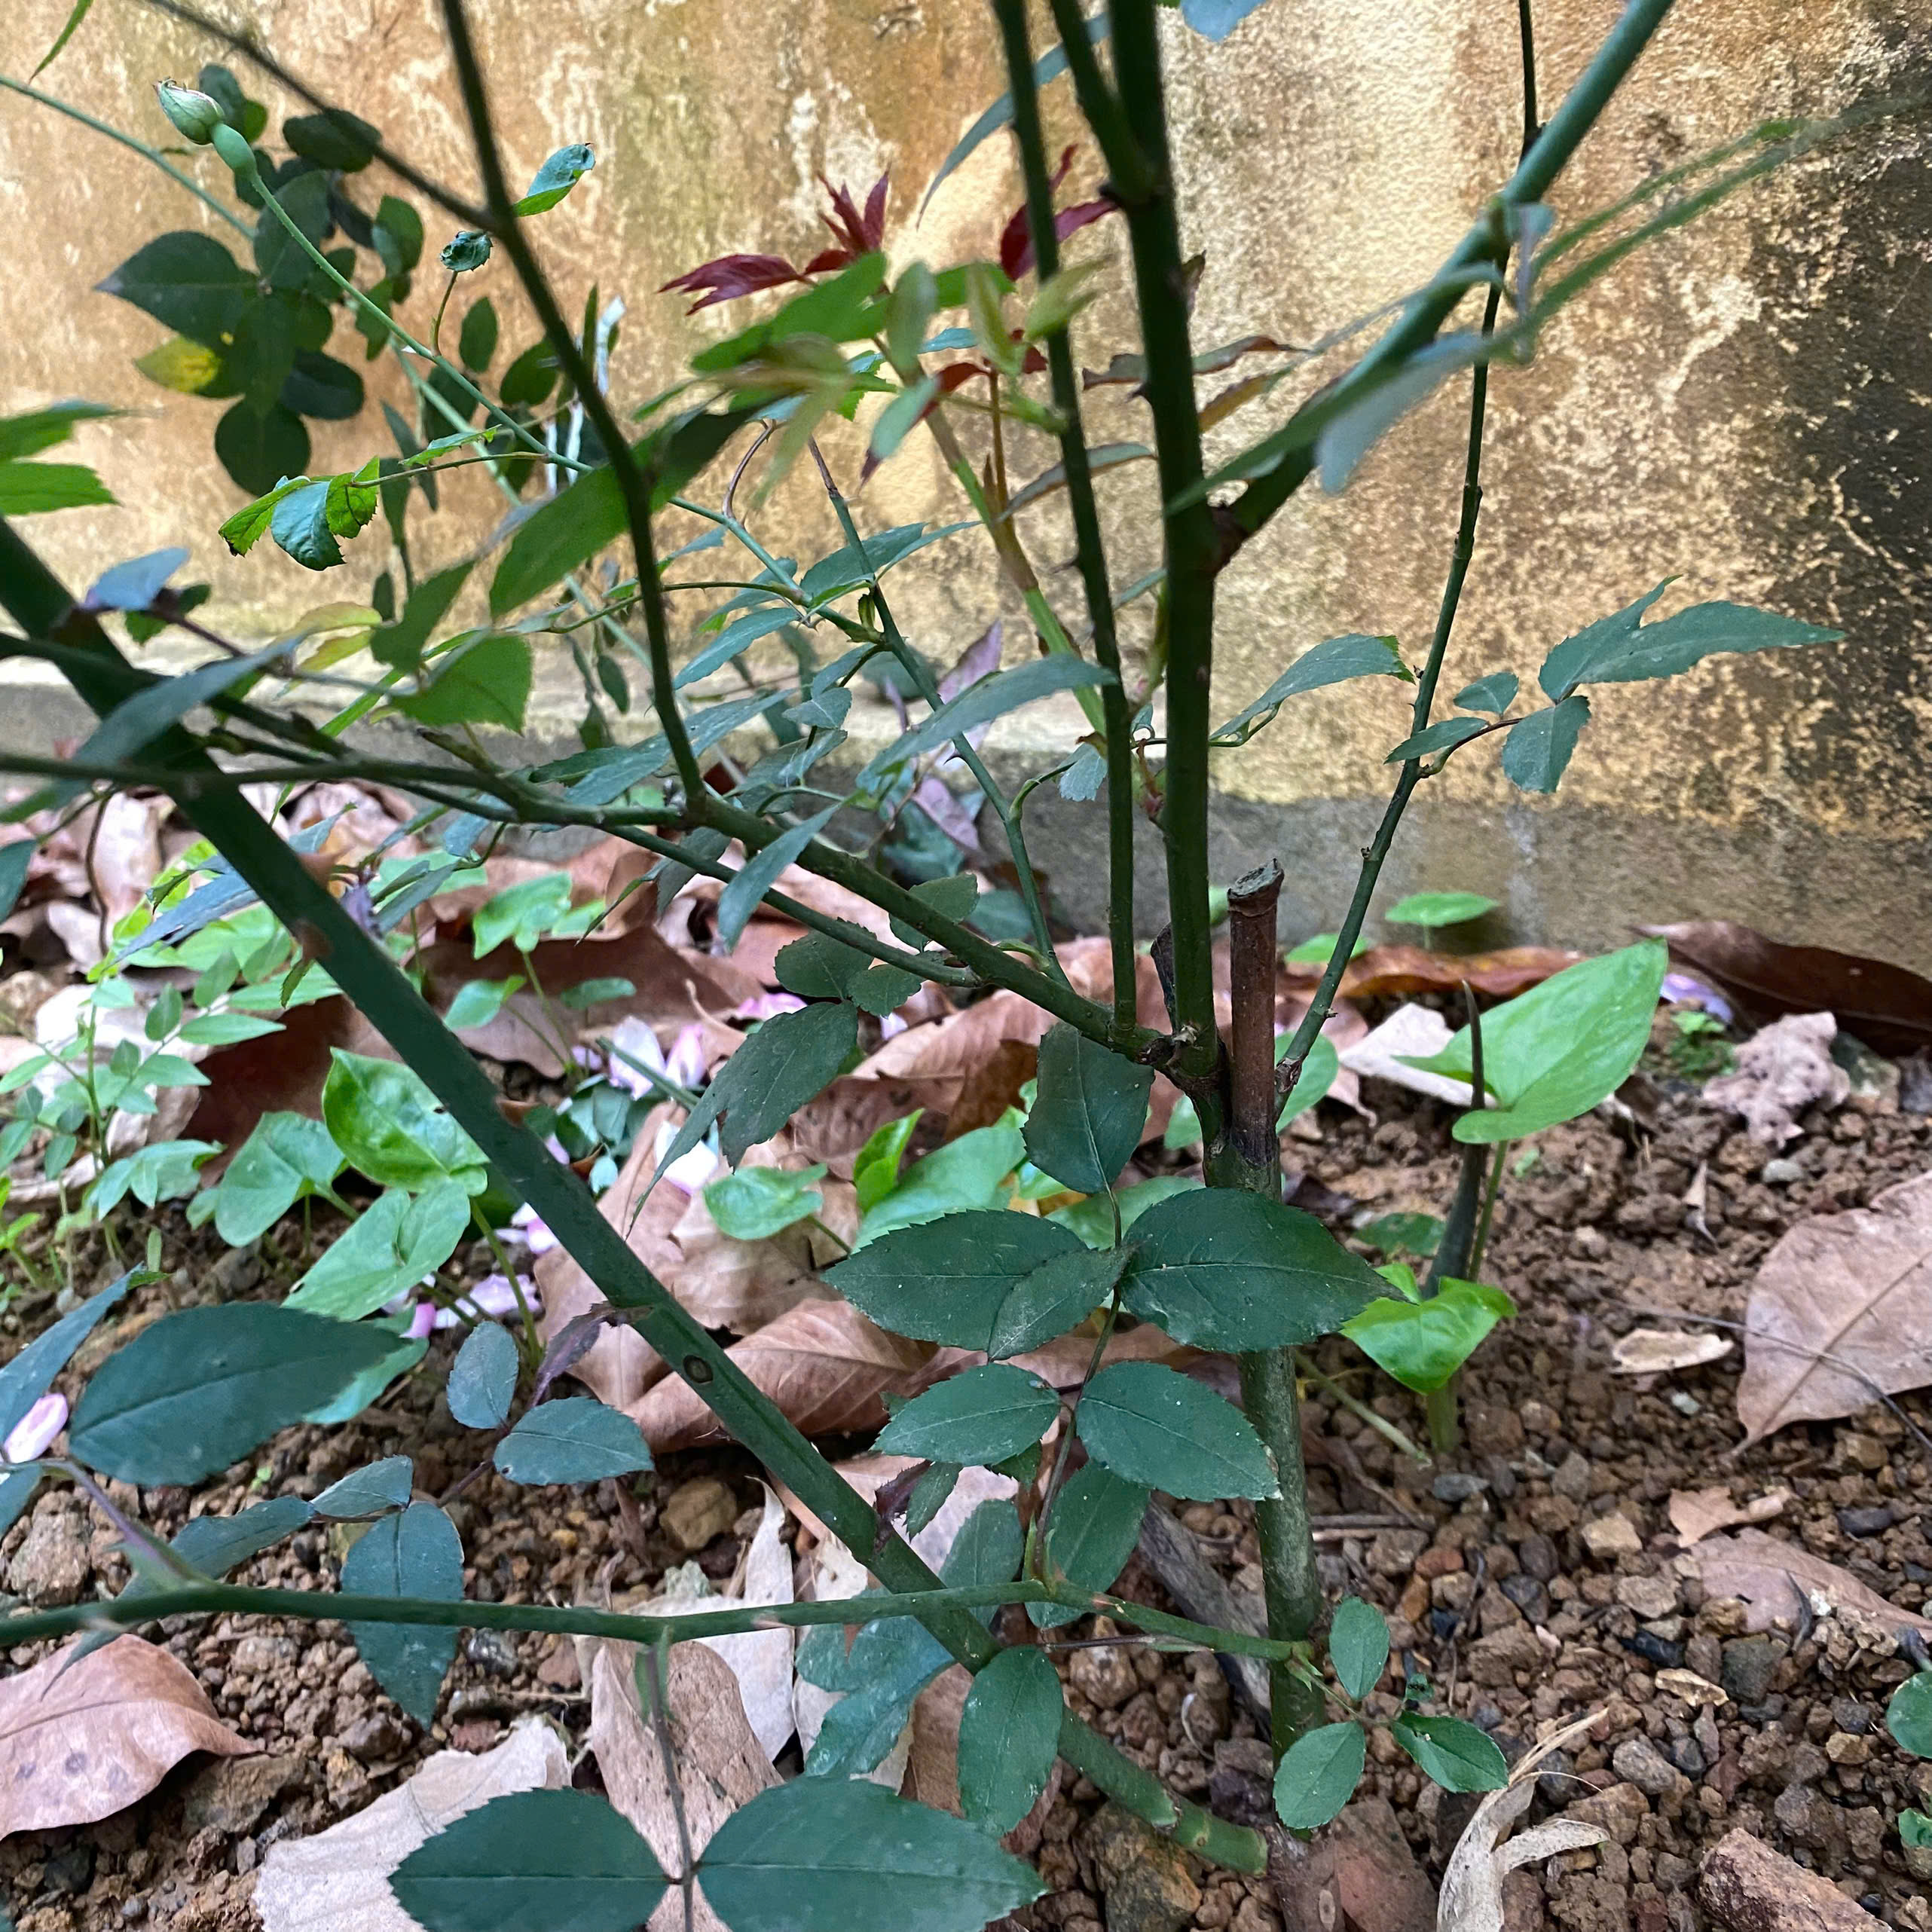hoa_hong_phan: (81, 99, 1721, 1874)
